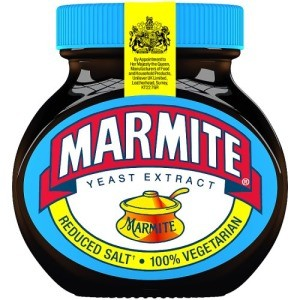yeast spread_brain food: (24, 62, 279, 230)
